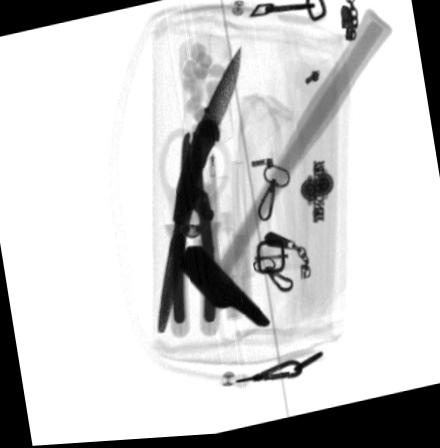Hammer: (177, 10, 395, 331)
Knife: (172, 46, 242, 232)
Pliers: (168, 132, 222, 343)
Scissors: (154, 122, 234, 339)
